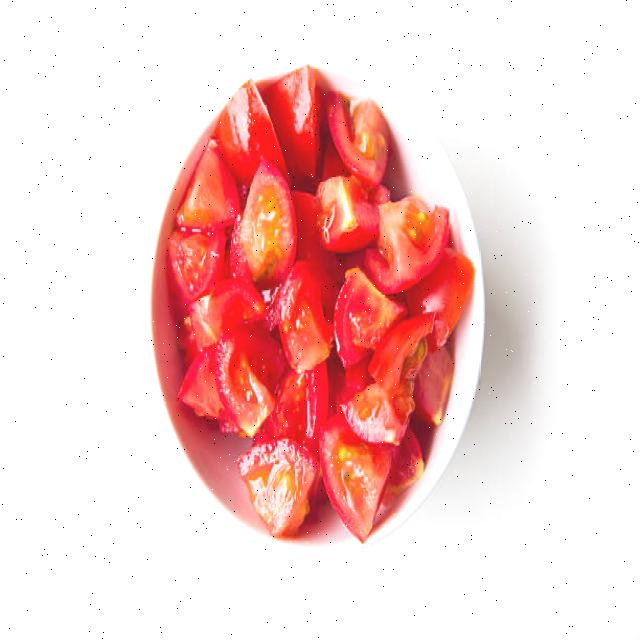Tomato: (192, 114, 456, 464)
